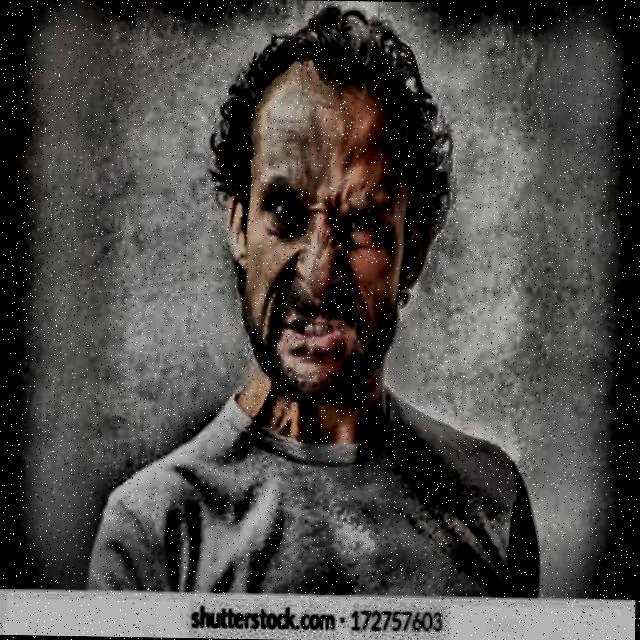angry: (194, 4, 473, 436)
